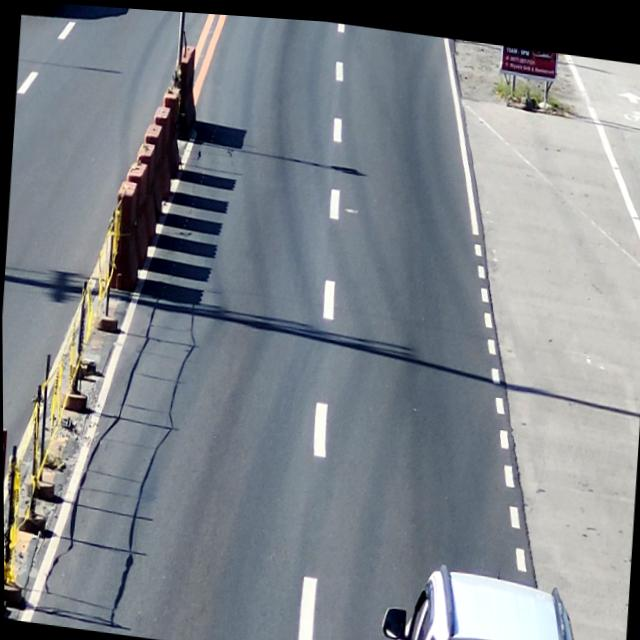Car: (369, 546, 599, 640)
